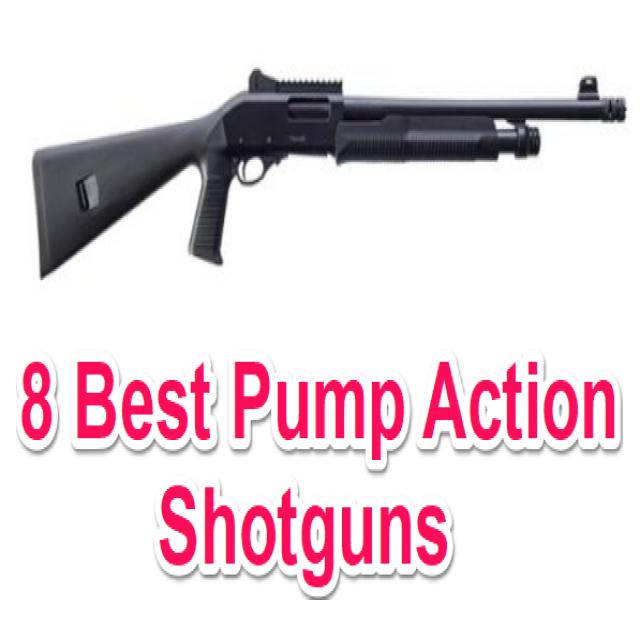ShotGun: (32, 73, 629, 278)
